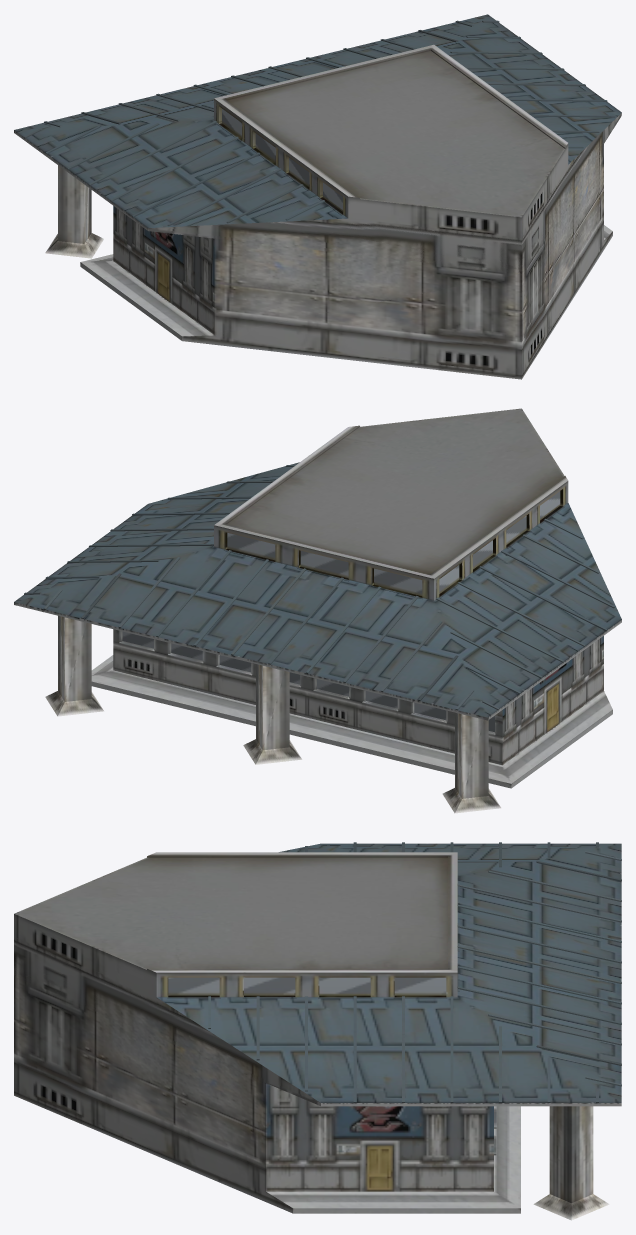
The model's file is s_adminquarter_cad.glb.
3 renders of one model, top to bottom at view 1: azimuth 30°, elevation 25°; view 2: azimuth 150°, elevation 25°; view 3: azimuth 270°, elevation 25°, orthographic. The views are drawn at different scales.
Parts seen in each view (by area): view 1: S_AdminQuarter; view 2: S_AdminQuarter; view 3: S_AdminQuarter.
Boxes of the visible parts, x1,y1,x2,y2 form: S_AdminQuarter: [14, 14, 621, 379]; S_AdminQuarter: [14, 408, 621, 813]; S_AdminQuarter: [14, 842, 621, 1220].
Size of the model in its own units: 25.34 by 8.34 by 25.08.
1 material, 1 textured.
